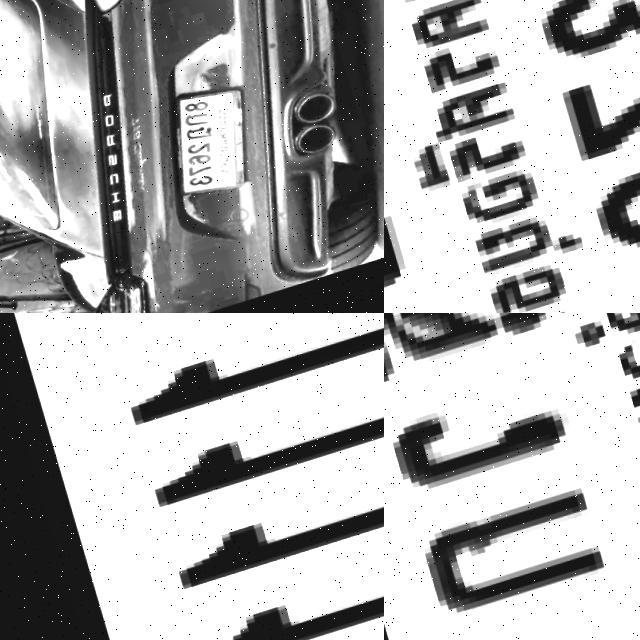license-plate: (0, 313, 384, 640), (384, 313, 640, 640), (384, 0, 640, 313), (137, 80, 265, 221)
